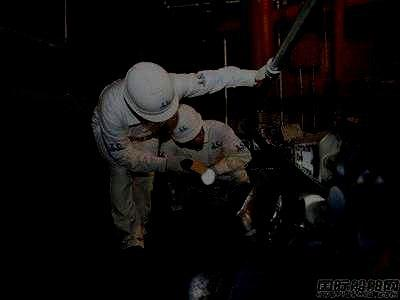helmet: (123, 62, 180, 125), (169, 105, 205, 149)
